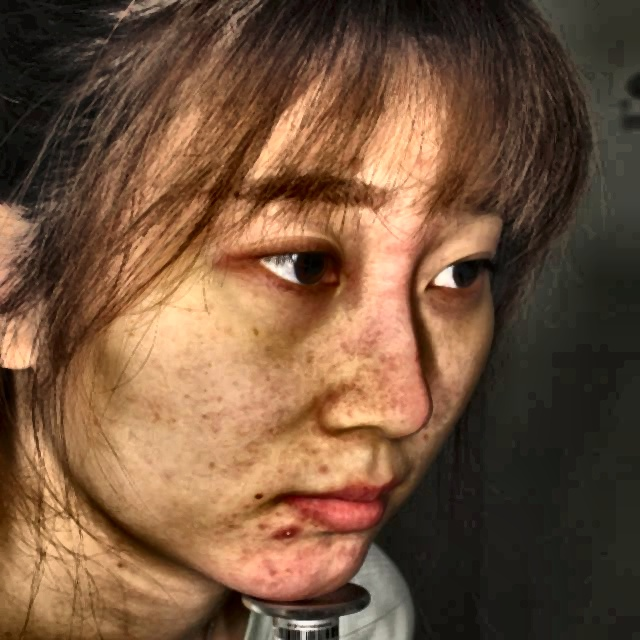comedone: (309, 532, 334, 556), (274, 523, 302, 542)
